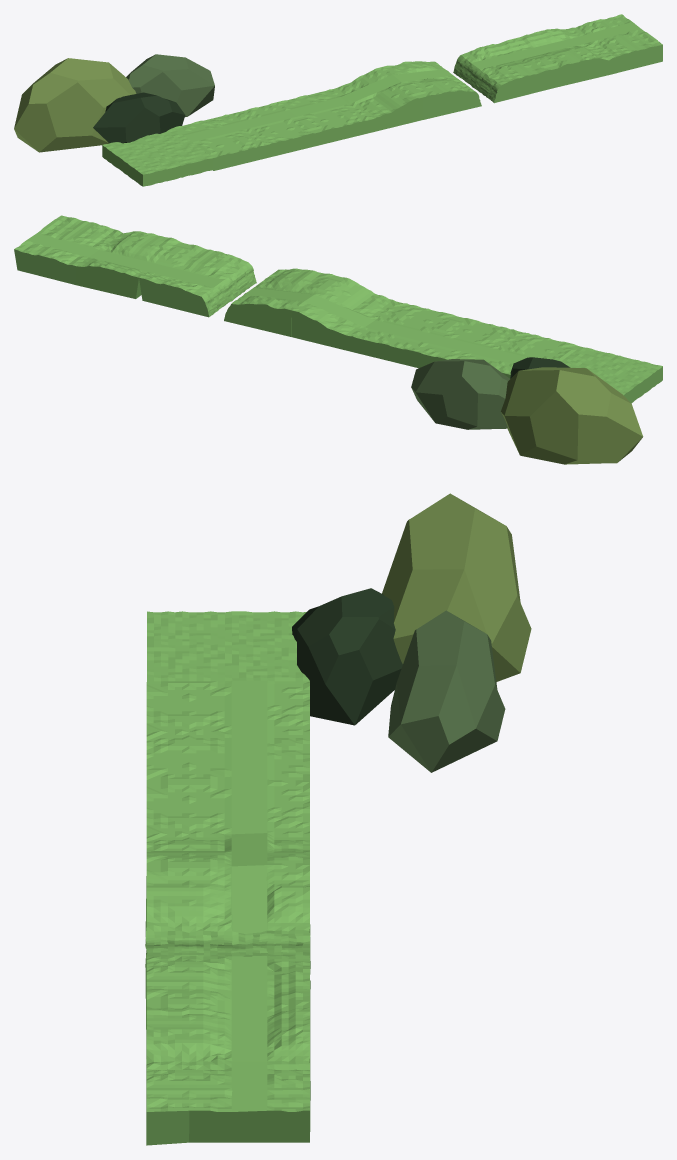
The model's file is 1_Forest_A_바닥길게.fbx.
The picture shows the model from 3 angles, top to bottom: view 1: azimuth 30°, elevation 25°; view 2: azimuth 150°, elevation 25°; view 3: azimuth 270°, elevation 25°; orthographic projection. The views are drawn at different scales.
Visible parts, largest first — view 1: Island_A, Mountain9.003, Mountain9.002, Mountain8.001; view 2: Island_A, Mountain9.003, Mountain9.002, Mountain8.001; view 3: Island_A, Mountain9.003, Mountain9.002, Mountain8.001.
Boxes of the visible parts, left/top/right/bottom form: Island_A: left=102, top=14, right=662, bottom=186; Mountain9.003: left=14, top=58, right=136, bottom=152; Mountain9.002: left=126, top=54, right=214, bottom=116; Mountain8.001: left=93, top=92, right=185, bottom=143; Island_A: left=14, top=215, right=662, bottom=403; Mountain9.003: left=501, top=367, right=643, bottom=464; Mountain9.002: left=411, top=359, right=509, bottom=429; Mountain8.001: left=510, top=357, right=569, bottom=378; Island_A: left=145, top=611, right=310, bottom=1145; Mountain9.003: left=382, top=493, right=531, bottom=681; Mountain9.002: left=388, top=610, right=505, bottom=772; Mountain8.001: left=292, top=588, right=402, bottom=725.
Bounding box in the file's own units: 7624 × 26257 × 3160.
